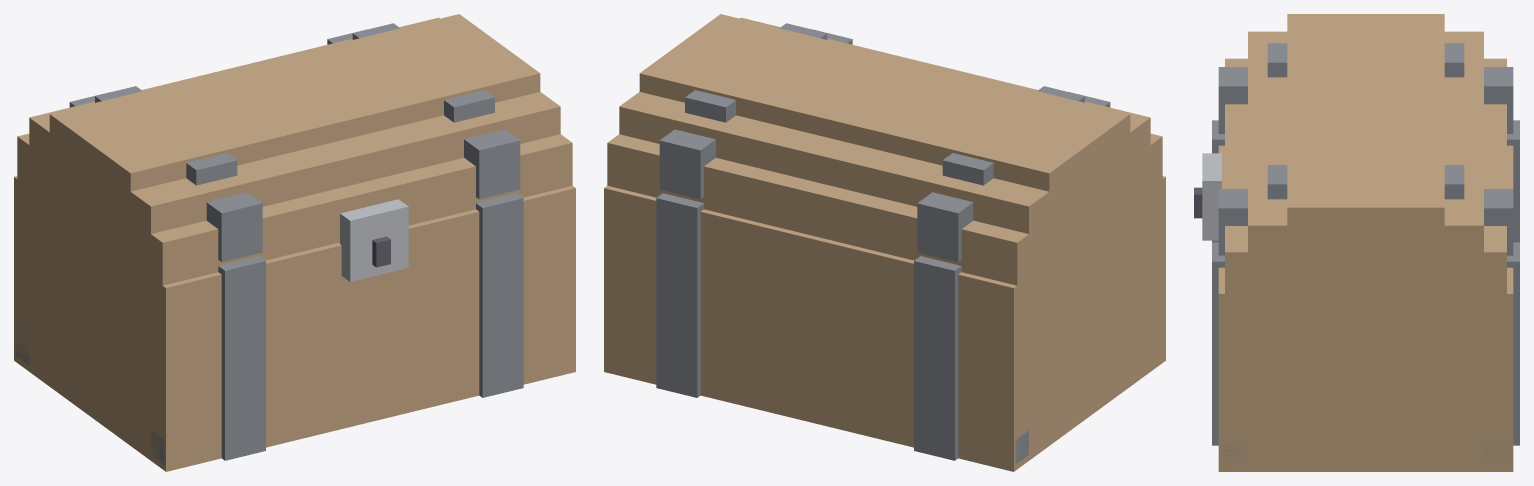
File: furniture_chest.glb
3 views of the same model, side by side, from view 1: azimuth 30°, elevation 25°; view 2: azimuth 150°, elevation 25°; view 3: azimuth 270°, elevation 25° (orthographic). The views are drawn at different scales.
Visible parts, largest first — view 1: wood, metal_dark, metal; view 2: wood, metal_dark; view 3: wood, metal_dark, metal.
Part boxes in pixels (x1,y1,x2,y2): wood: (14,14,575,471); metal_dark: (15,23,523,463); metal: (340,199,408,281); wood: (604,14,1165,471); metal_dark: (656,23,1110,463); wood: (1218,14,1513,471); metal_dark: (1212,43,1519,465); metal: (1202,153,1221,240).
Bounding box in the file's own units: 0.7 × 0.445 × 0.4975.
